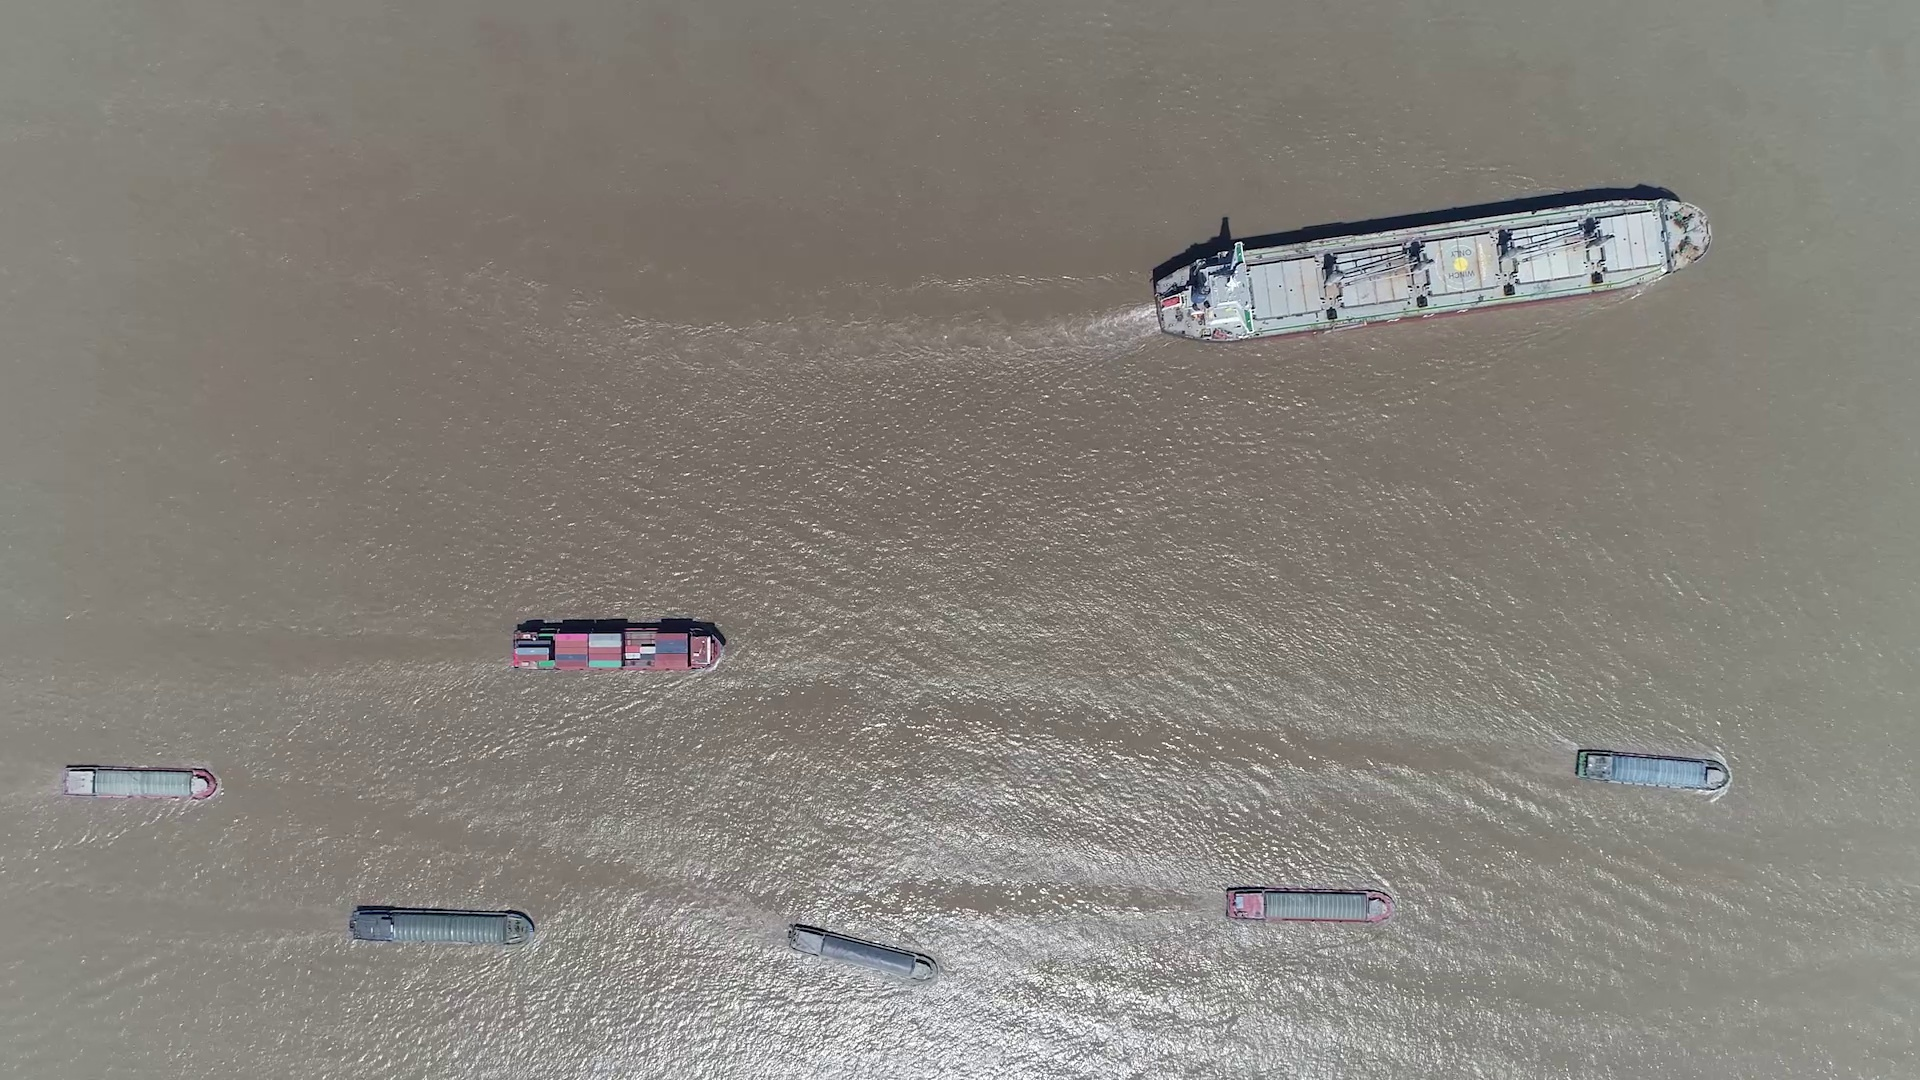ship: (1146, 199, 1714, 342), (510, 622, 725, 673), (786, 923, 936, 981), (349, 905, 533, 945), (1577, 749, 1730, 793), (1224, 887, 1393, 924), (61, 765, 216, 800)
